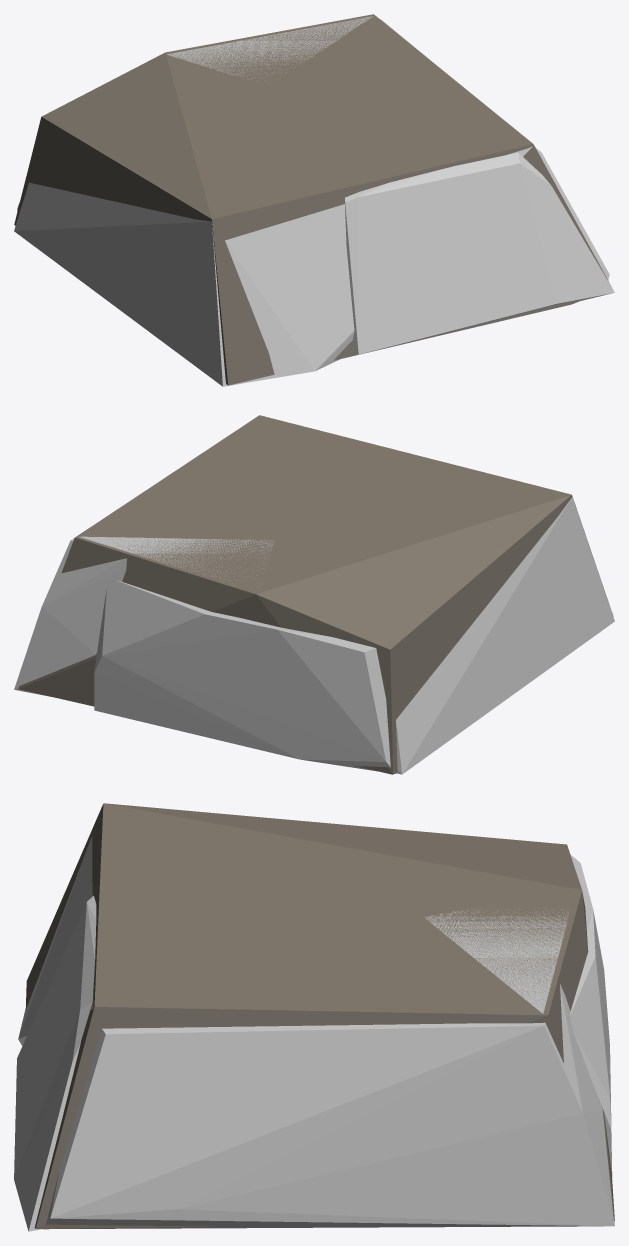
File: SM_Env_Footpath_Stone_03.fbx
The picture shows the model from 3 angles, top to bottom: view 1: azimuth 30°, elevation 25°; view 2: azimuth 150°, elevation 25°; view 3: azimuth 270°, elevation 25°; orthographic projection. The views are drawn at different scales.
Visible parts, largest first — view 1: SM_Env_Footpath_Stone_03_ConvexHulls, SM_Env_Footpath_Stone_03; view 2: SM_Env_Footpath_Stone_03, SM_Env_Footpath_Stone_03_ConvexHulls; view 3: SM_Env_Footpath_Stone_03_ConvexHulls, SM_Env_Footpath_Stone_03.
Part boxes in pixels (x1=…): SM_Env_Footpath_Stone_03_ConvexHulls: x1=14, y1=16, x2=614, y2=386; SM_Env_Footpath_Stone_03: x1=14, y1=14, x2=611, y2=385; SM_Env_Footpath_Stone_03: x1=18, y1=415, x2=613, y2=774; SM_Env_Footpath_Stone_03_ConvexHulls: x1=14, y1=497, x2=614, y2=774; SM_Env_Footpath_Stone_03_ConvexHulls: x1=14, y1=836, x2=614, y2=1231; SM_Env_Footpath_Stone_03: x1=25, y1=803, x2=614, y2=1228.
Bounding box in the file's own units: 64.16 × 64.68 × 22.68.
Materials: 2 (1 with a texture image).
